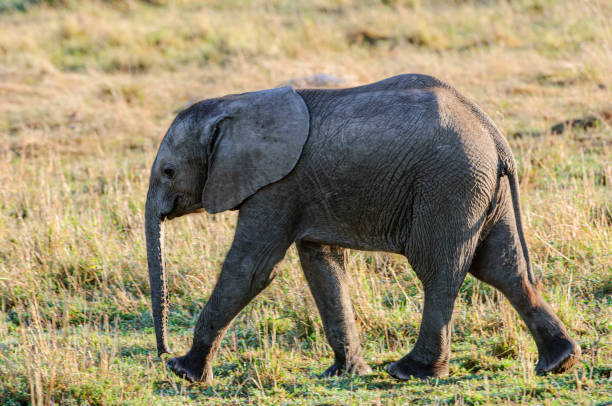africanelephant: (130, 88, 297, 248)
